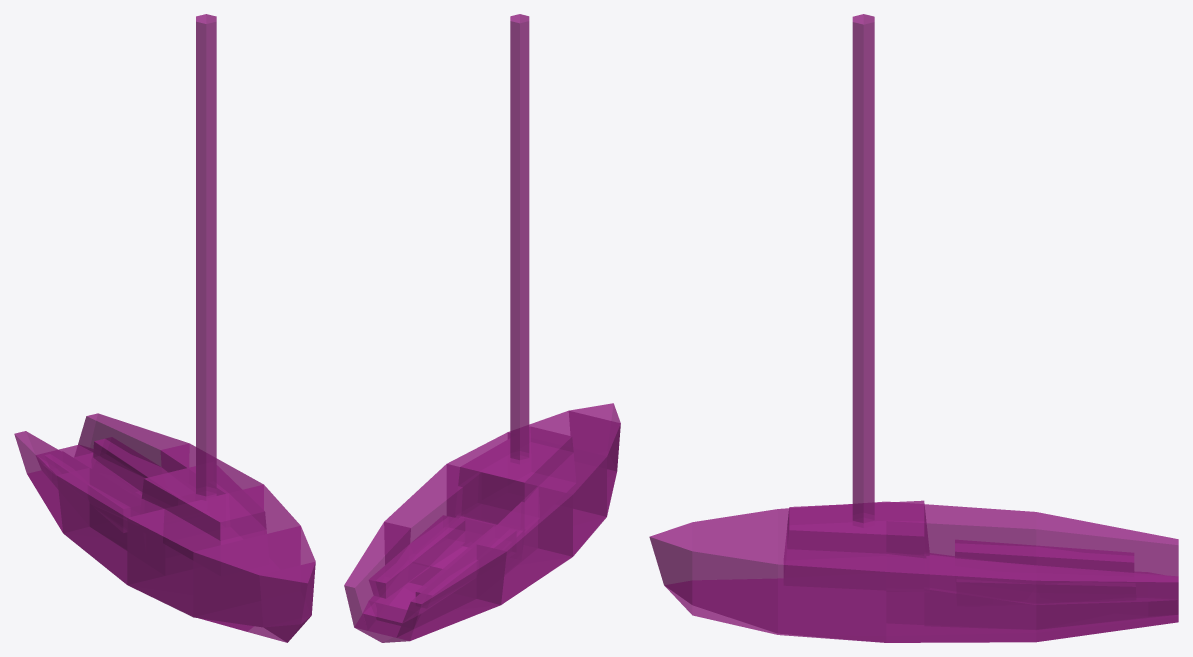
Rendered from SM_Veh_Sailboat_01_Collision.fbx.
3 views of the same model, side by side, from view 1: azimuth 30°, elevation 25°; view 2: azimuth 150°, elevation 25°; view 3: azimuth 270°, elevation 25° (orthographic). The views are drawn at different scales.
Parts seen in each view (by area): view 1: SM_Veh_Sailboat_01_Collision; view 2: SM_Veh_Sailboat_01_Collision; view 3: SM_Veh_Sailboat_01_Collision.
Boxes of the visible parts, x1=… form: SM_Veh_Sailboat_01_Collision: x1=14, y1=14, x2=315, y2=642; SM_Veh_Sailboat_01_Collision: x1=344, y1=14, x2=620, y2=642; SM_Veh_Sailboat_01_Collision: x1=649, y1=14, x2=1178, y2=642.
Bounding box in the file's own units: 339 × 1383 × 1076.
